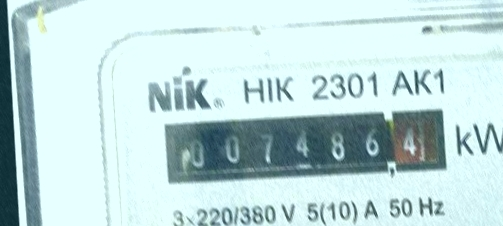0: (185, 134, 207, 169), (222, 130, 242, 164)
4: (291, 123, 311, 159), (399, 122, 418, 157)
6: (362, 124, 383, 157)
7: (254, 129, 279, 163)
8: (328, 127, 347, 163)
screen: (154, 95, 456, 196)
